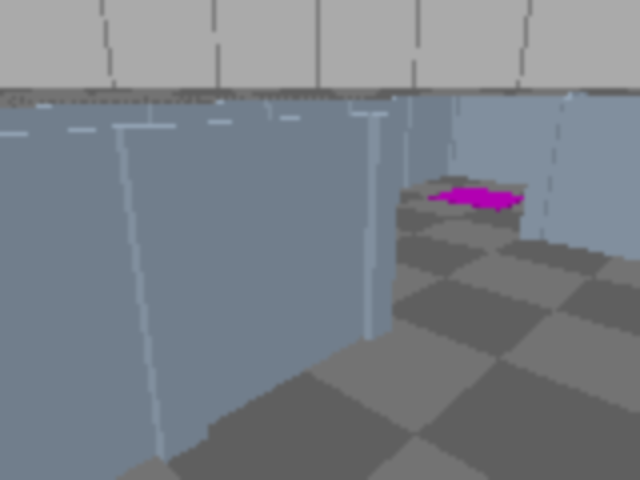goal_zone: (428, 186, 531, 211)
